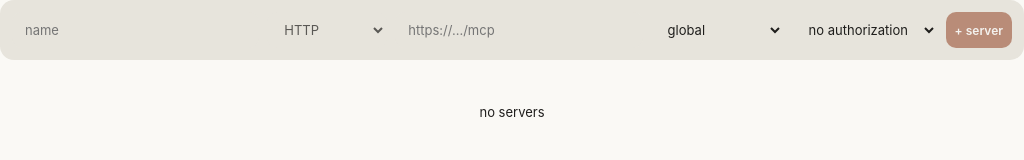
Test: ServersTab › add-server submit stays disabled while the name or url field is empty
expect the button with test id "server-create-submit" is disabled: met, box [946,12,1012,48]
Type "Prowl" into the field with test id "server-create-name" at (136,30), box [12,12,259,48]
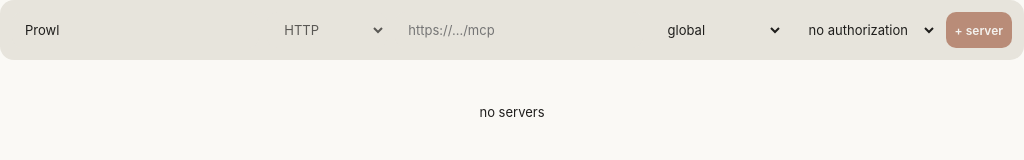
expect the button with test id "server-create-submit" is disabled: met, box [946,12,1012,48]
Type "https://prowl.chat/mcp" into the field with test id "server-create-url" at (519,30), box [395,12,643,48]
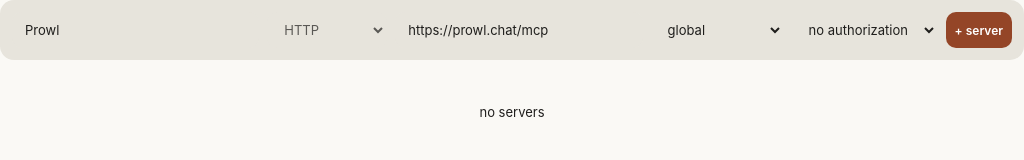
expect the button with test id "server-create-submit" is enabled: met, box [946,12,1012,48]
